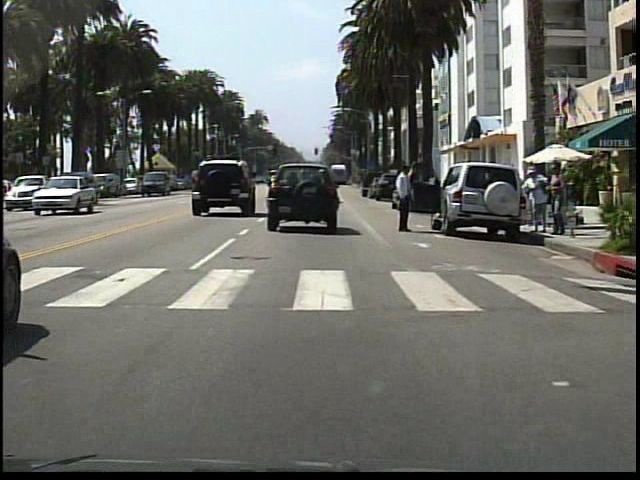person: (391, 158, 422, 238), (519, 163, 549, 239), (548, 161, 568, 240)
